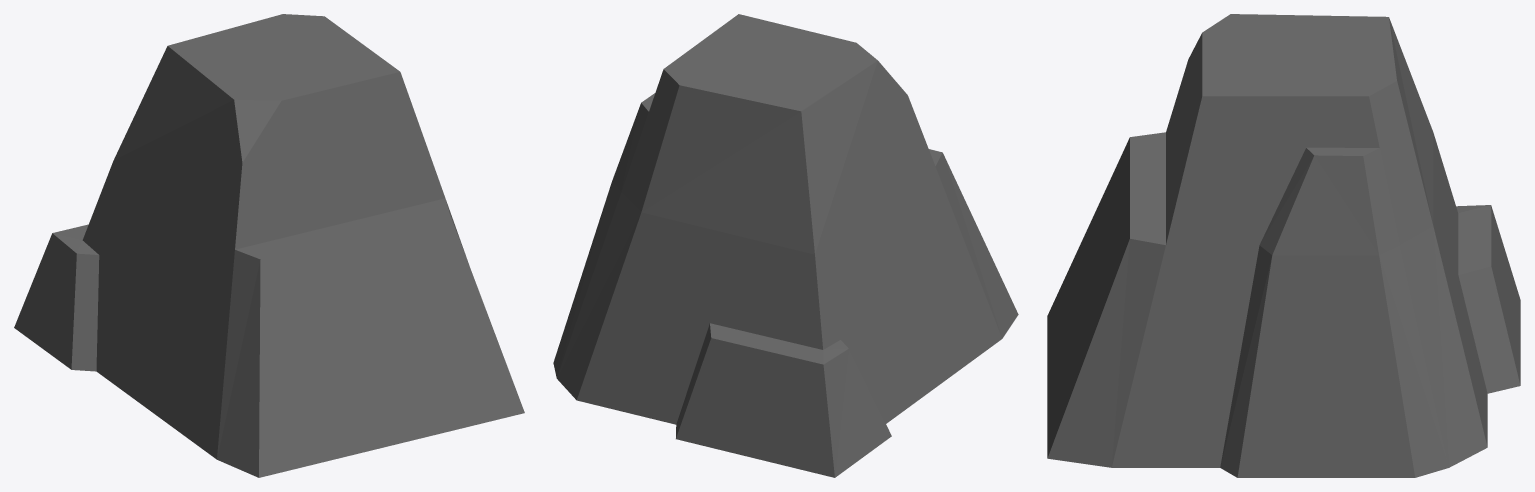
File: StoneB.fbx
3 views of the same model, side by side, from view 1: azimuth 30°, elevation 25°; view 2: azimuth 150°, elevation 25°; view 3: azimuth 270°, elevation 25° (orthographic). The views are drawn at different scales.
Visible parts, largest first — view 1: StoneB; view 2: StoneB; view 3: StoneB.
Part boxes in pixels (box(x1,y1,x2,y2)): StoneB: box(14, 14, 524, 477); StoneB: box(553, 14, 1018, 477); StoneB: box(1047, 14, 1520, 477).
Size of the model in its own units: 42.15 by 36.78 by 47.32.
